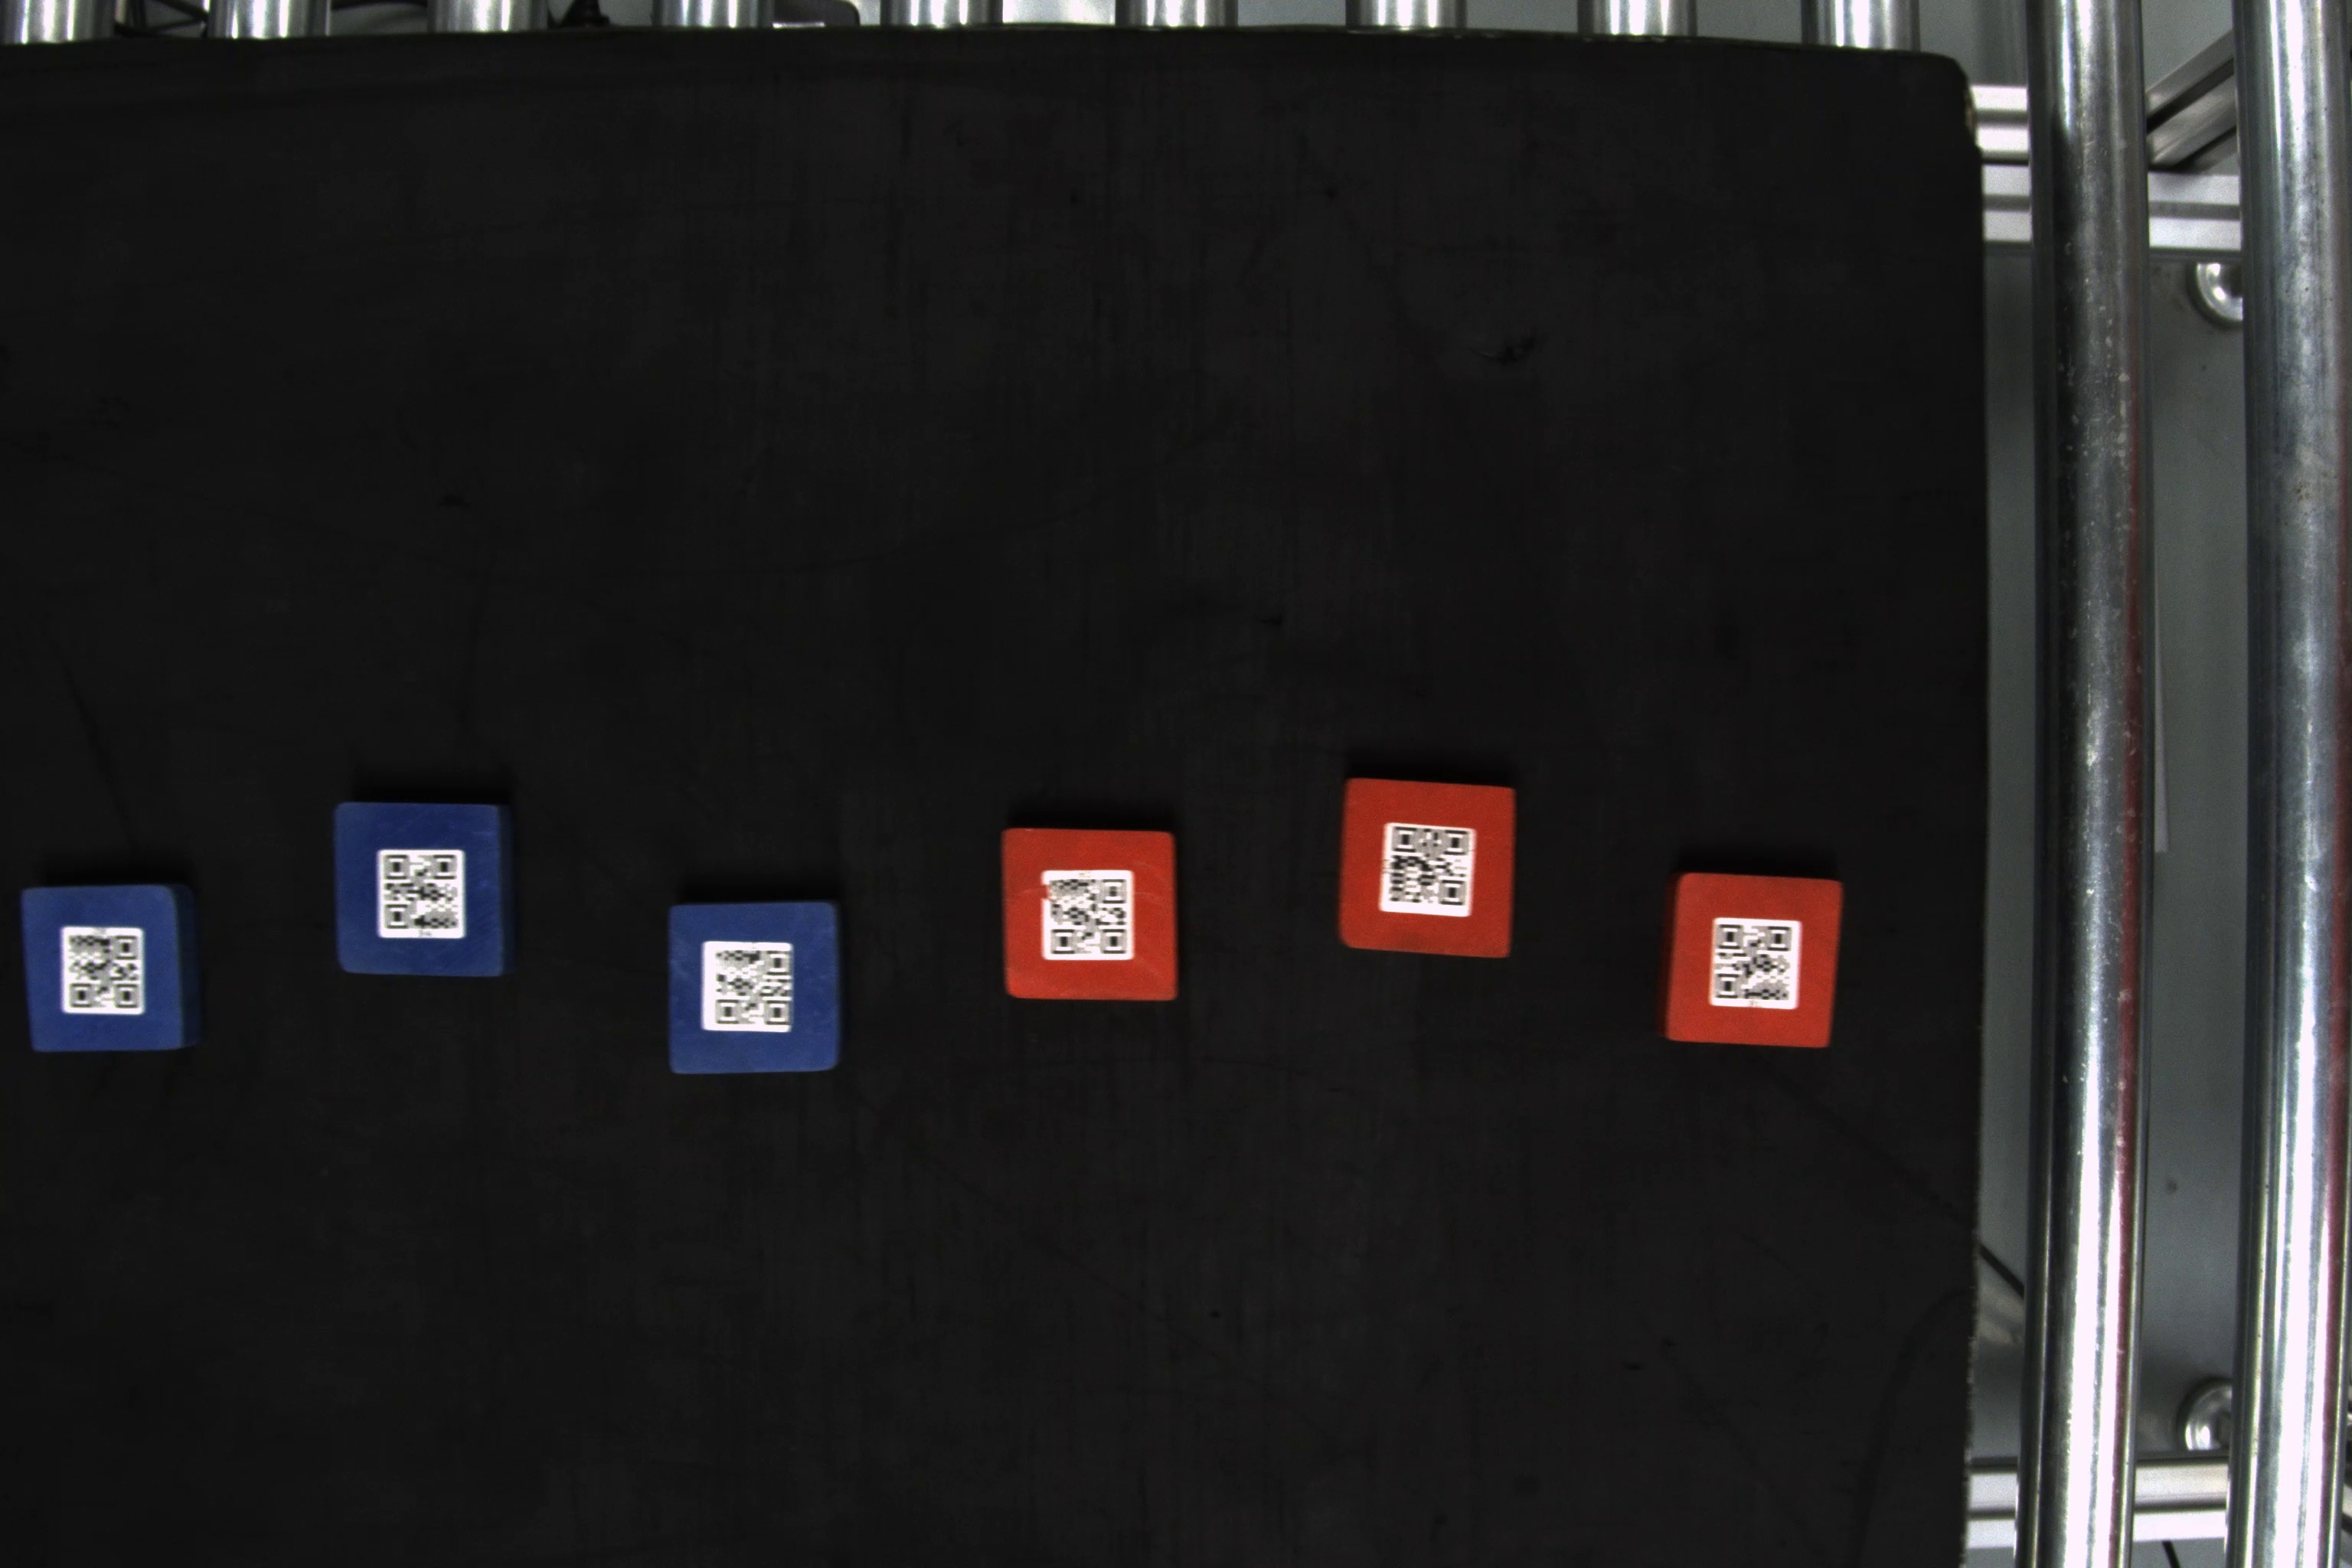wood: (327, 793, 525, 992), (992, 817, 1193, 1011), (1650, 859, 1844, 1059), (661, 894, 852, 1083), (1333, 772, 1519, 966), (21, 882, 205, 1060)
